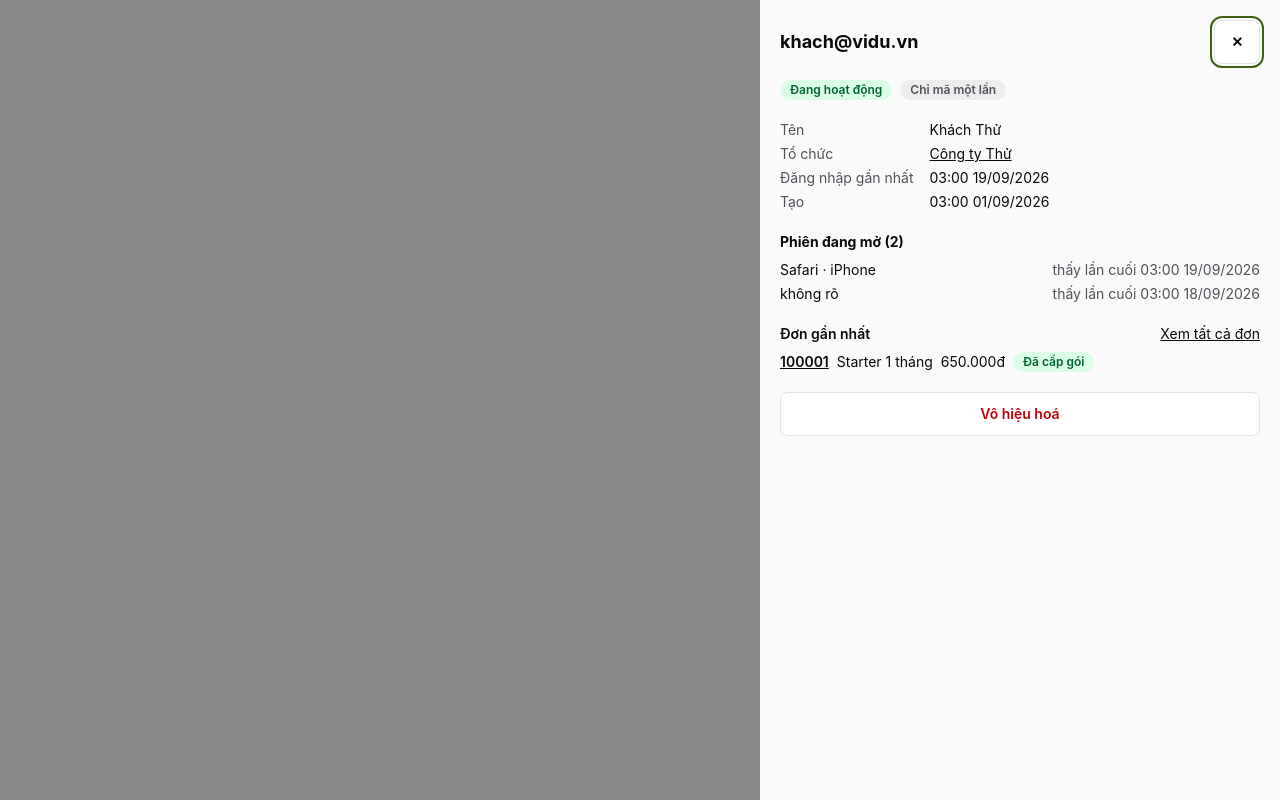
Test: ChiTietKhachPanel › bấm Vô hiệu hoá mở form lý do; nút gửi nói rõ hệ quả xoá phiên
What coordinates should you click on to do the following:
click the button "Vô hiệu hoá"
I would click on:
 (1020, 414)
Its box is x1=780 y1=392 x2=1260 y2=436.
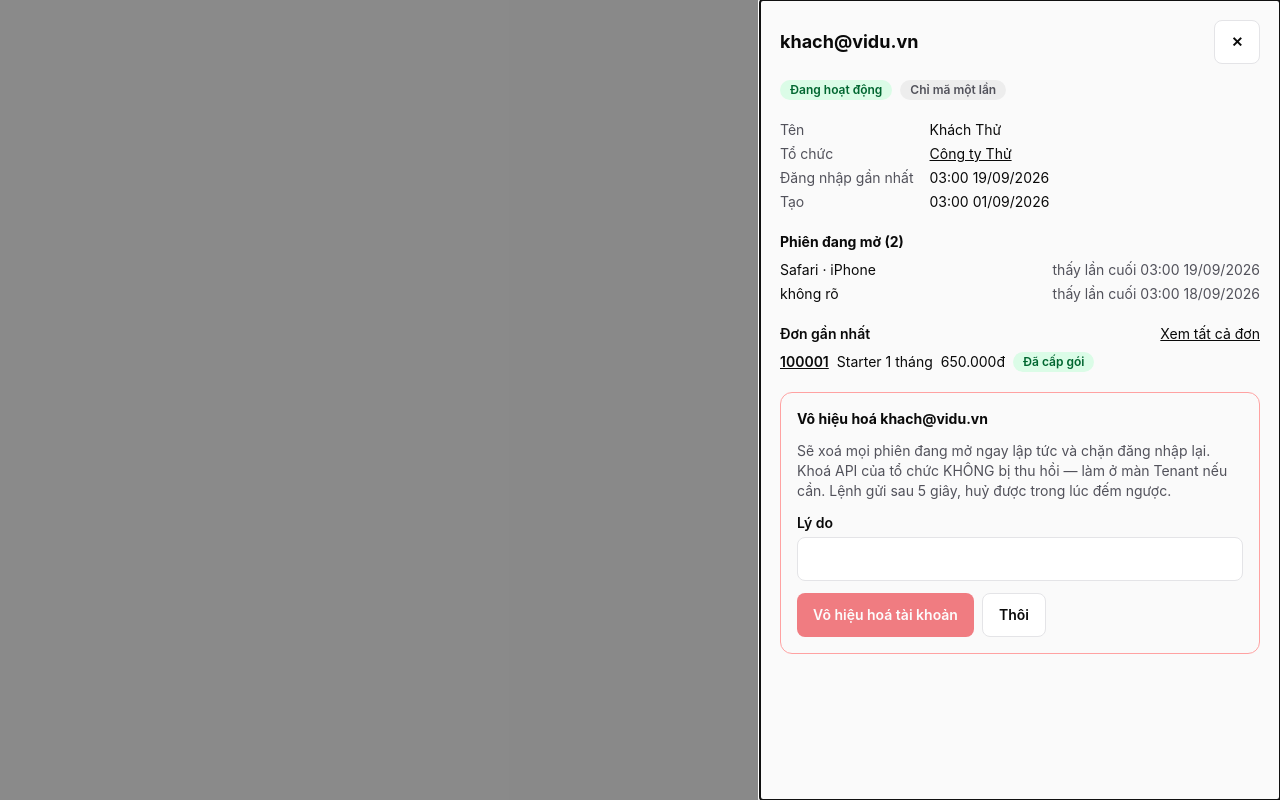
Result: the form "Vô hiệu hoá khach@vidu.vn" is shown at x1=780 y1=392 x2=1260 y2=654
Result: the text "xoá mọi phiên" is shown at x1=797 y1=442 x2=1227 y2=499
Result: the button "Vô hiệu hoá tài khoản" is disabled at x1=797 y1=593 x2=974 y2=637
